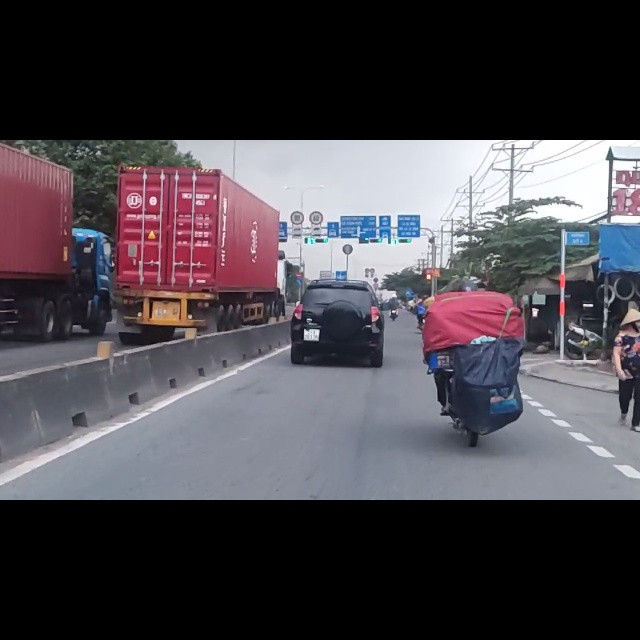bien_chi_dan: (309, 124, 325, 153), (291, 126, 304, 152), (296, 247, 303, 258), (295, 235, 302, 245)
